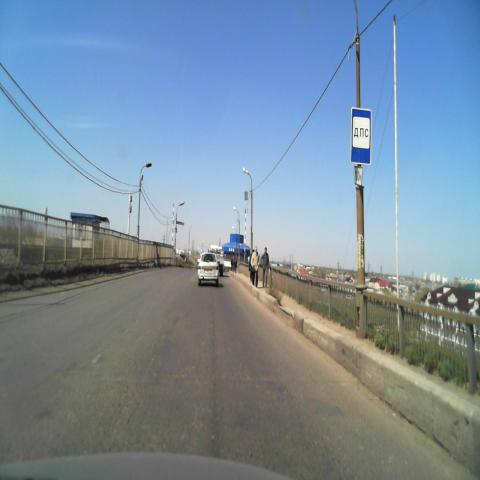7_12: (350, 107, 372, 165)
8_1_1: (353, 168, 362, 186)
